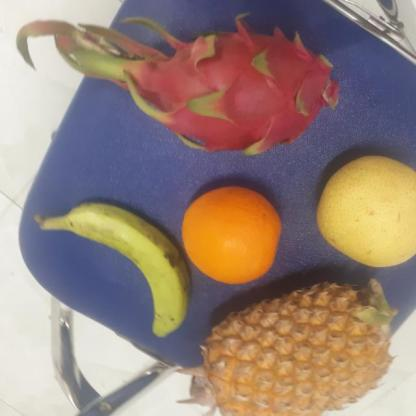banana: (63, 205, 198, 336)
guava: (316, 154, 416, 268)
pear: (178, 187, 285, 284)
pineapple: (205, 270, 396, 416)
pitaya: (124, 27, 352, 156)
